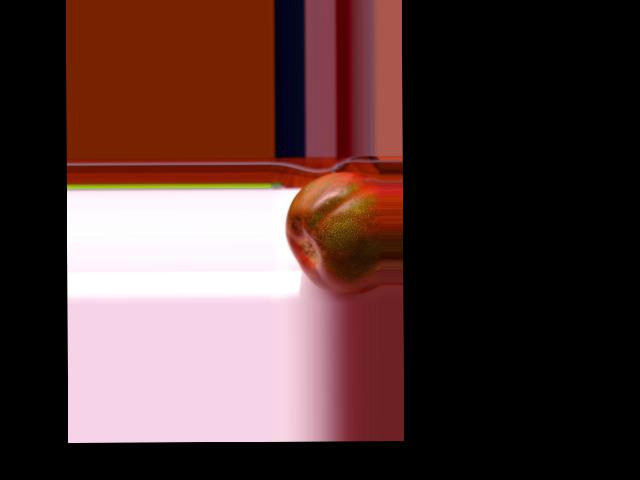tomato: (285, 171, 381, 293)
